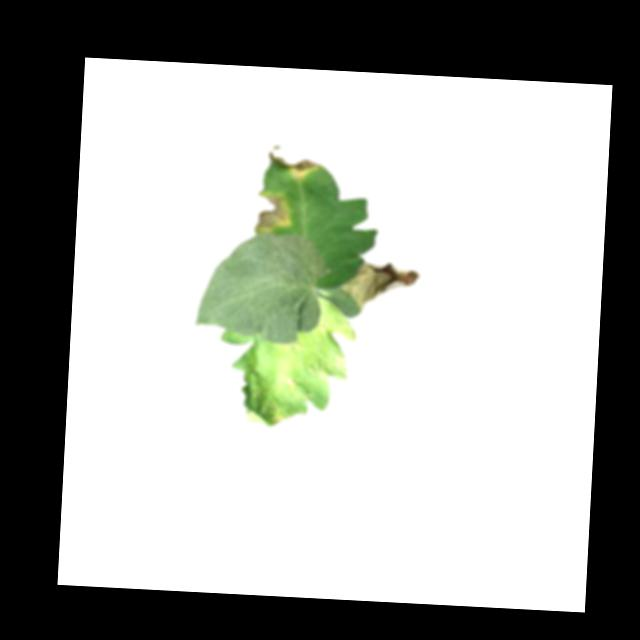Late_blight: (337, 259, 422, 316), (265, 145, 319, 181), (251, 191, 293, 234), (264, 399, 287, 426), (278, 370, 300, 394)
healthy: (193, 228, 324, 345)
